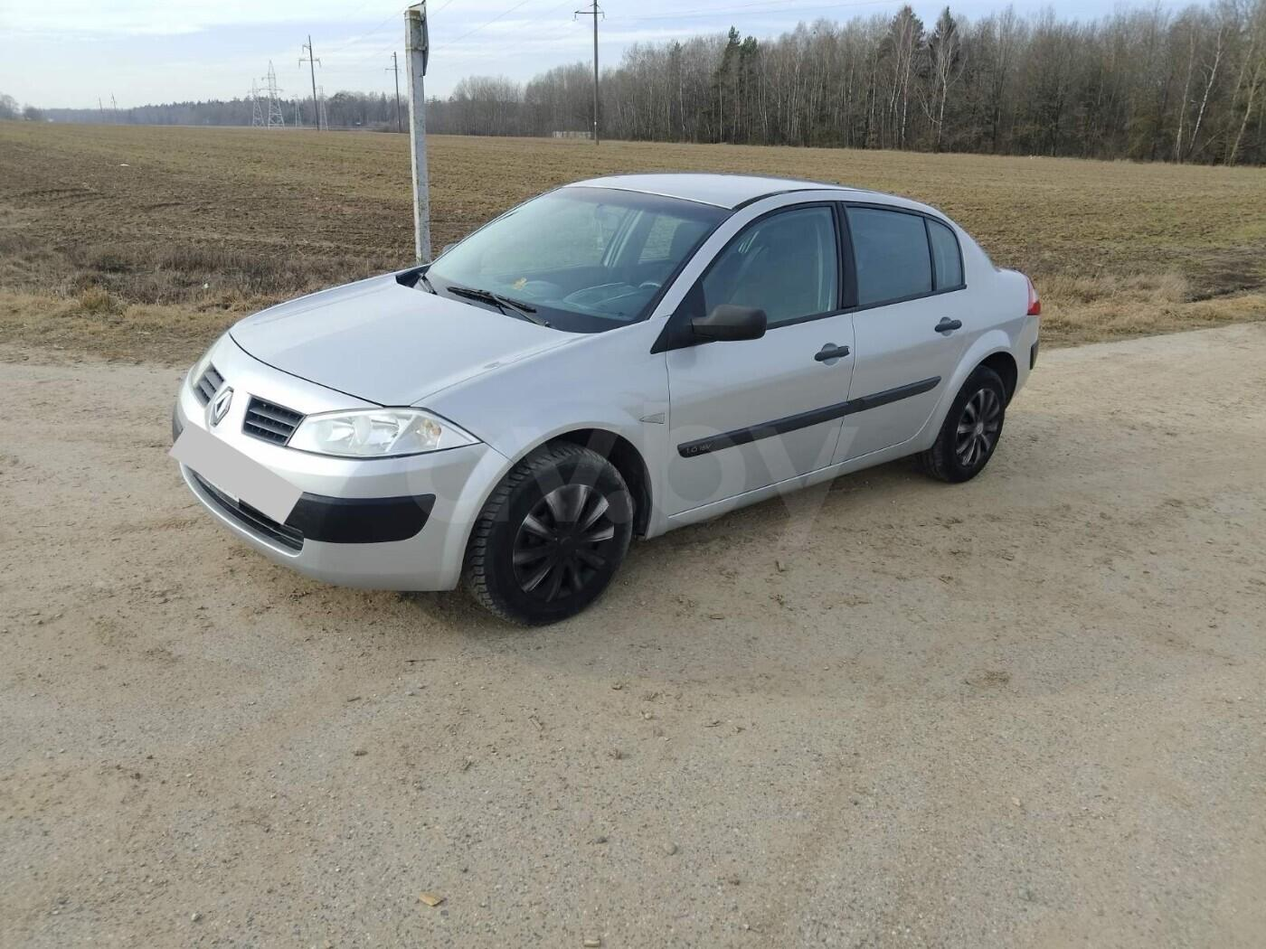Megane_2002-2006: (165, 164, 1053, 625)
